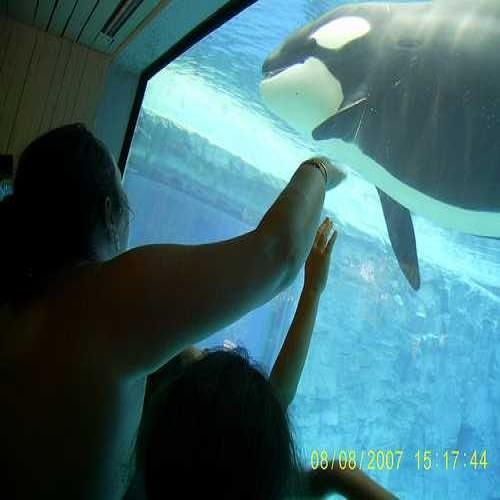killer_whale-endangered: (248, 0, 500, 269)
